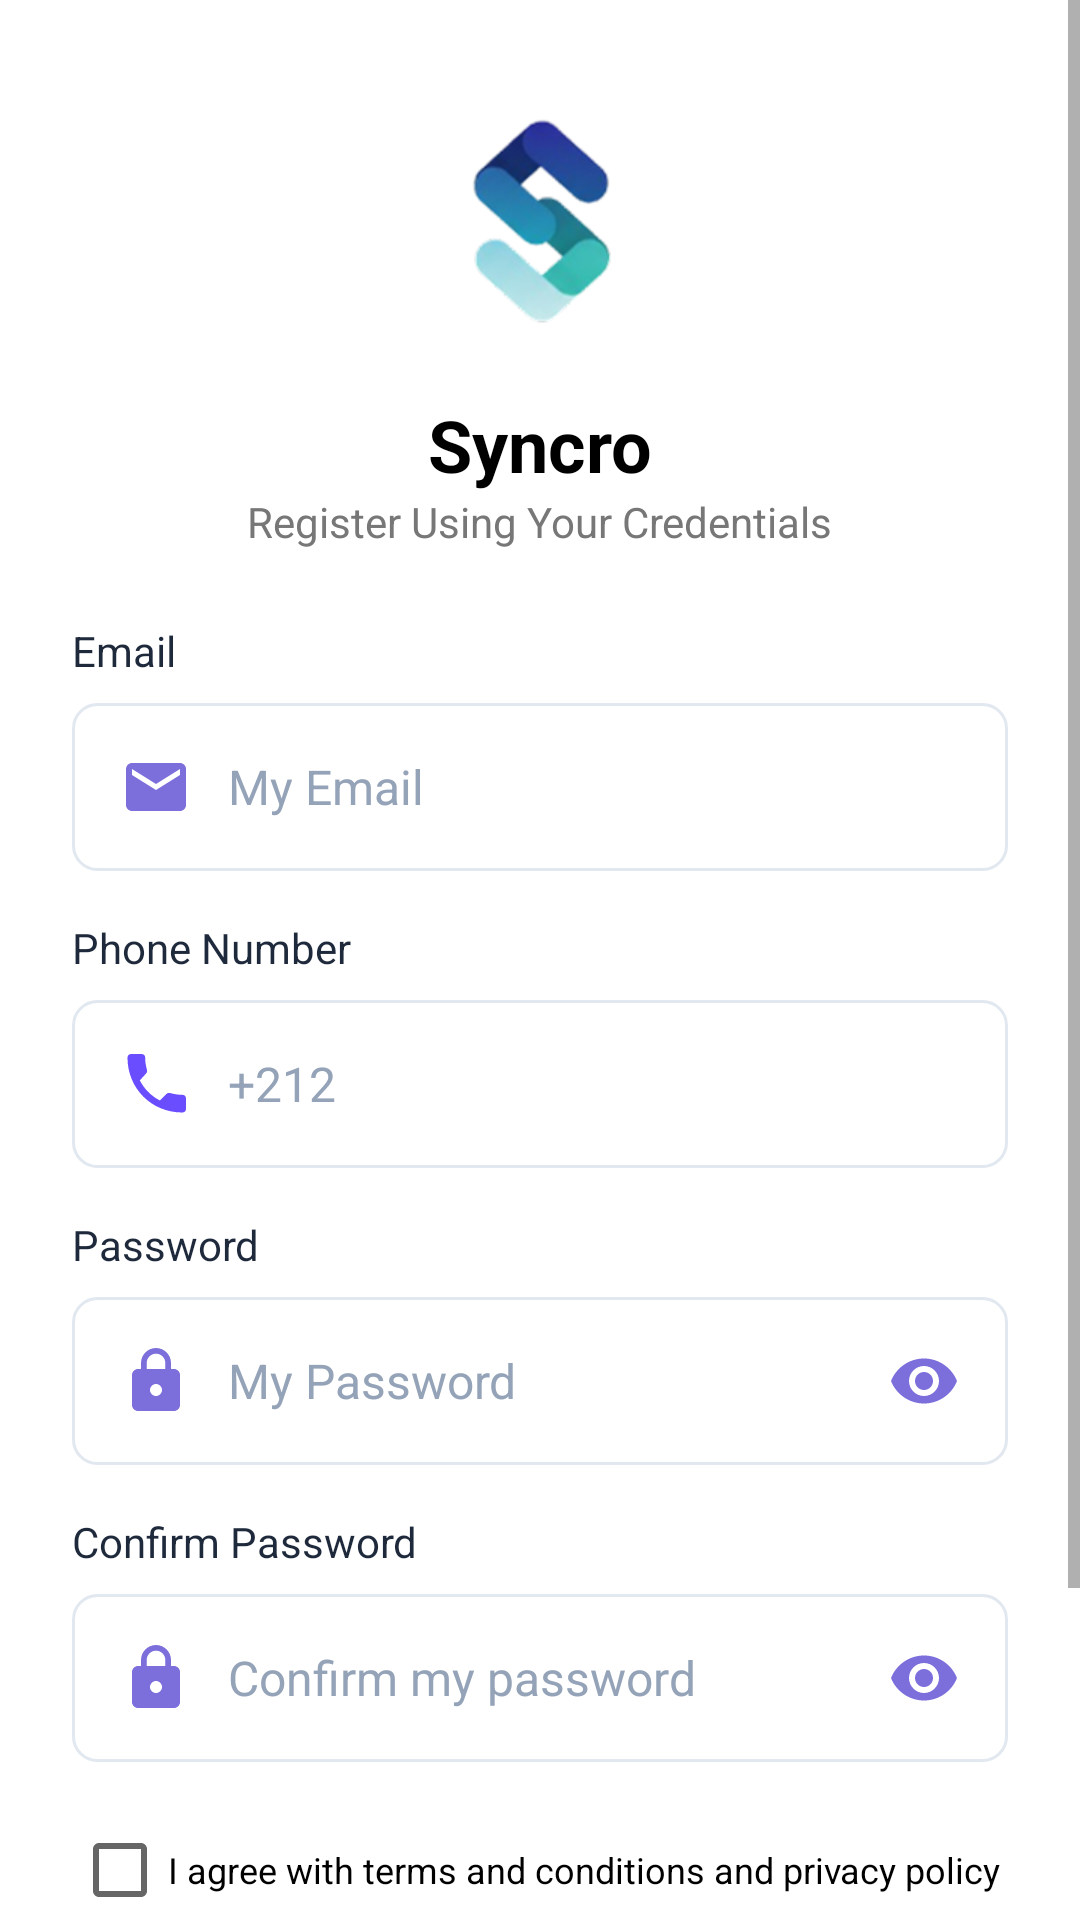

Named icons in this screenshot (1080 × 1920) and their bounding boxes, (x1, y1, x2, y2):
visibility: (891, 1358, 957, 1404), (891, 1655, 957, 1701)
